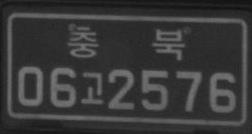0: (17, 65, 43, 106)
2: (107, 68, 135, 110)
5: (141, 69, 169, 110)
6: (49, 67, 77, 108), (208, 72, 236, 113)
7: (175, 70, 202, 112)
고: (81, 71, 103, 105)
충북_D: (67, 25, 185, 60)
